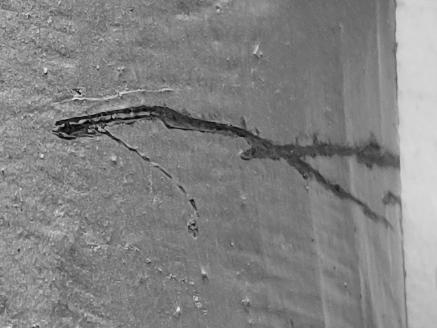scratch: (1, 1, 437, 328)
